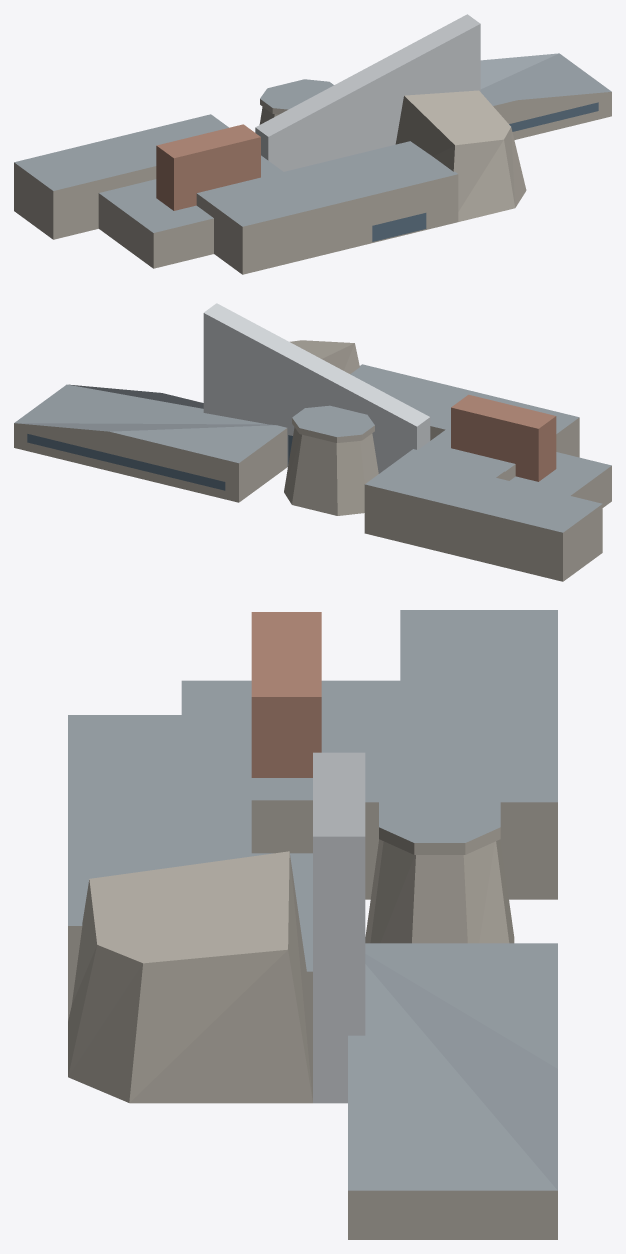
Rendered from phx-arizona-science-center.glb.
3 renders of one model, top to bottom at view 1: azimuth 30°, elevation 25°; view 2: azimuth 150°, elevation 25°; view 3: azimuth 270°, elevation 25°, orthographic. The views are drawn at different scales.
Visible parts, largest first — view 1: Arizona Science Center; view 2: Arizona Science Center; view 3: Arizona Science Center.
Boxes of the visible parts, x1,y1,x2,y2 form: Arizona Science Center: (14, 14, 611, 274); Arizona Science Center: (14, 303, 611, 581); Arizona Science Center: (68, 610, 557, 1239).
Size of the model in its own units: 144 by 33.6 by 56.12.
